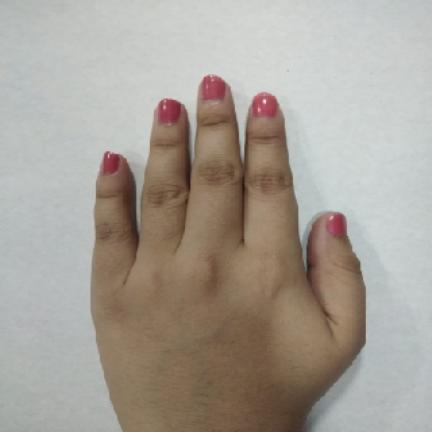Nail: (251, 92, 278, 117), (202, 75, 226, 100), (158, 99, 181, 123), (326, 213, 347, 236), (101, 151, 121, 175)
